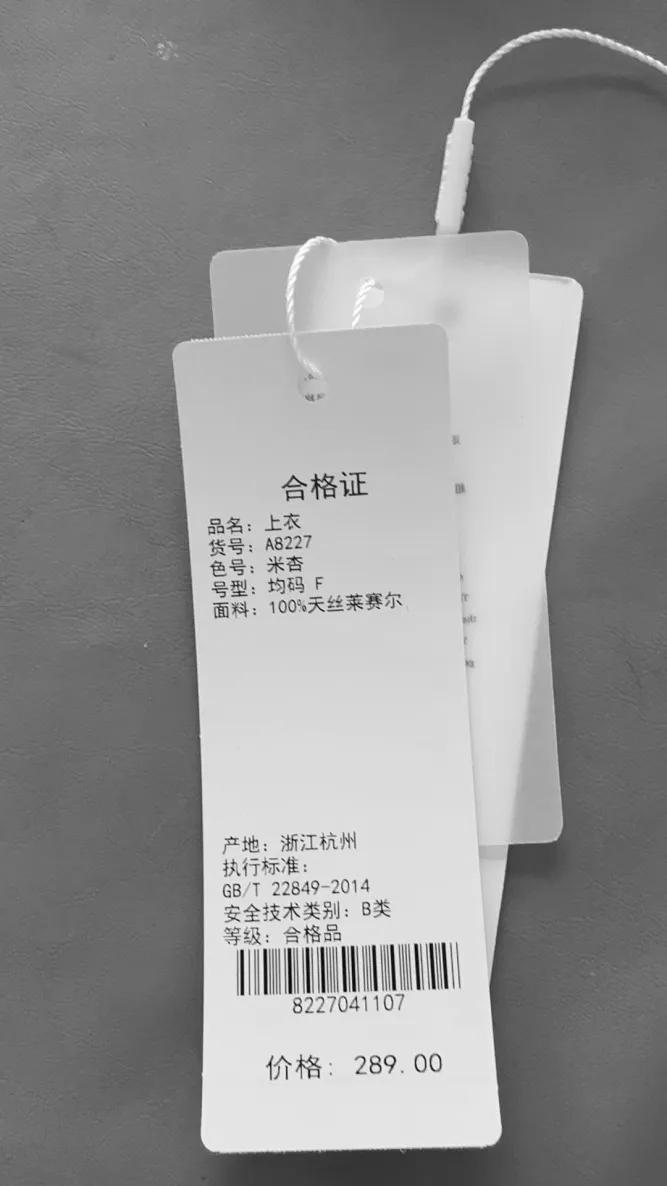Barcode: (218, 910, 480, 1021)
